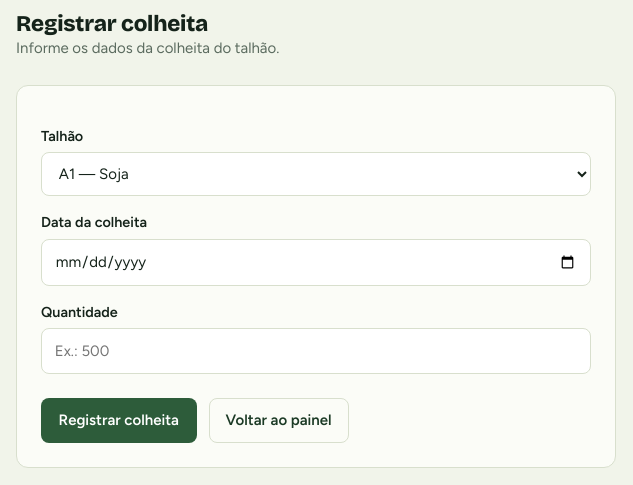
Test: RegistrarColheita - UI03 › desabilita o envio enquanto registra a colheita
The width and height of the screenshot is (633, 485).
Expected: the dropdown labelled "Talhão" is shown, [41,152,591,196]
Type "2026-11-26" into the date field labelled "Data da colheita".
click(316, 262); type("2026-11-26")  # box [41,239,591,286]
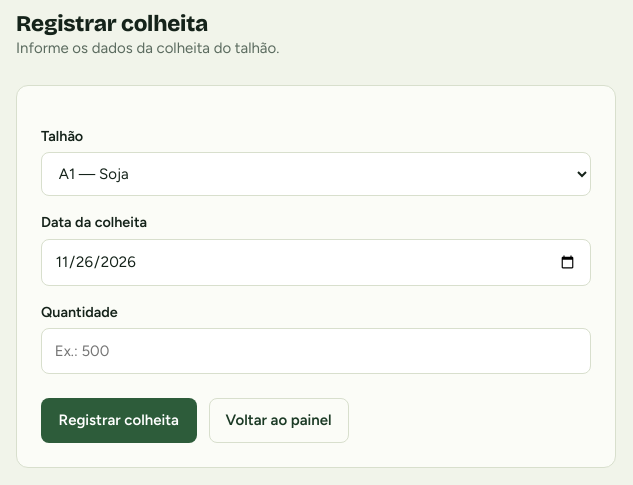
Type "500" into the number field labelled "Quantidade".
click(316, 351); type("500")  # box [41,328,591,374]
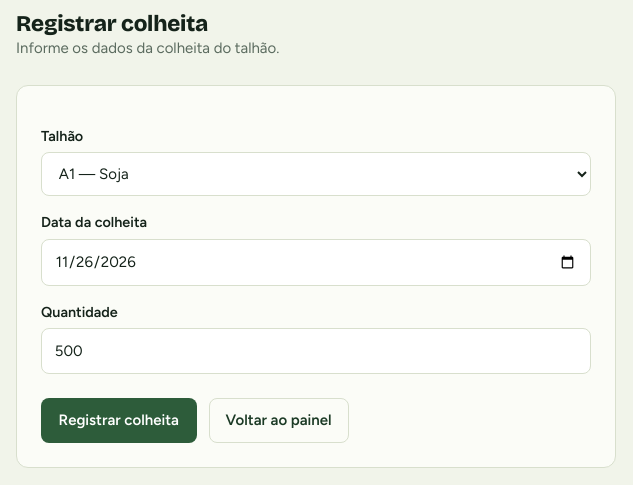
Click the button "Registrar colheita".
click(119, 420)  # box [41,398,196,443]
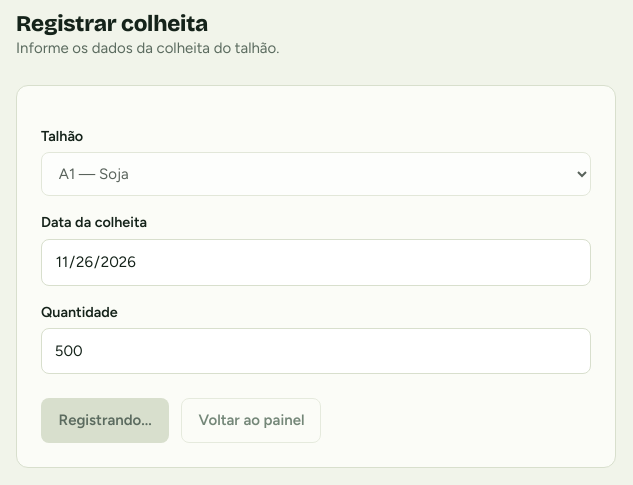
Expected: the button "Registrando..." is disabled, [41,398,169,443]
